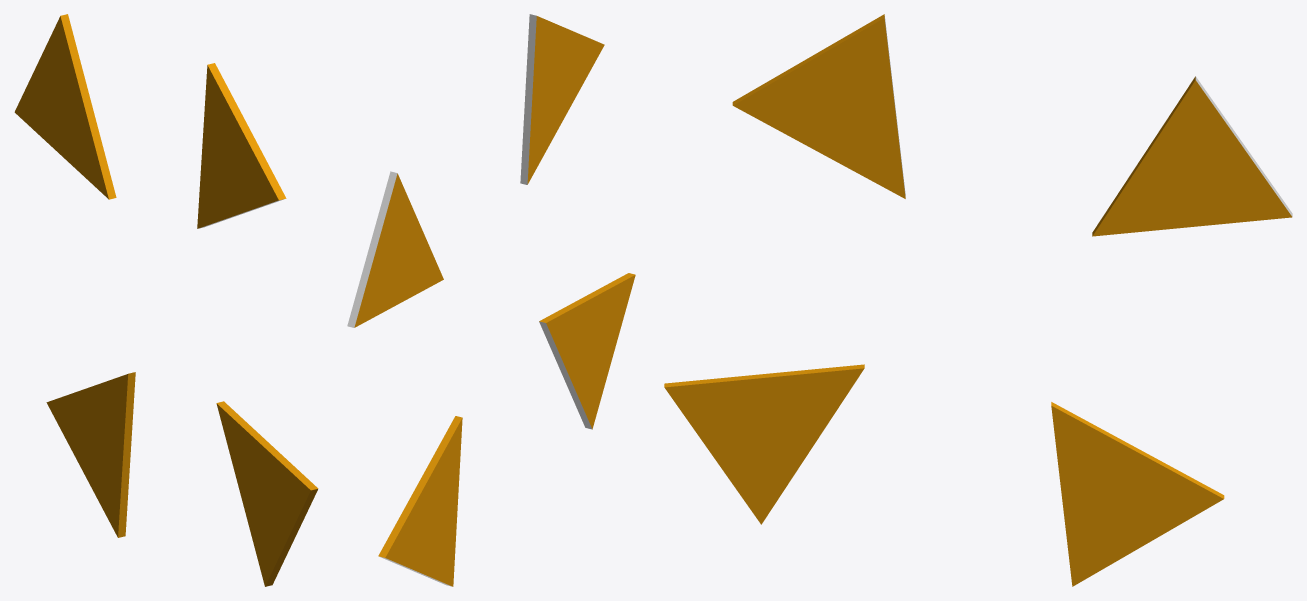
Rendered from lock_on_s_apply.fbx.
3 views of the same model, side by side, from view 1: azimuth 30°, elevation 25°; view 2: azimuth 150°, elevation 25°; view 3: azimuth 270°, elevation 25° (orthographic). The views are drawn at different scales.
Parts seen in each view (by area): view 1: baixo; view 2: baixo; view 3: baixo.
Boxes of the visible parts, x1=… form: baixo: x1=14, y1=14, x2=318, y2=586; baixo: x1=347, y1=14, x2=635, y2=586; baixo: x1=664, y1=14, x2=1292, y2=586.
Bounding box in the file's own units: 13.16 × 828 × 828.
